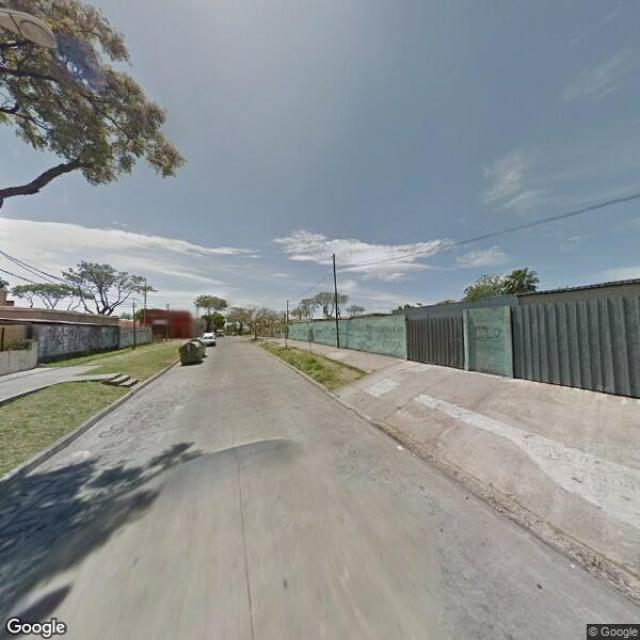garbage container: (168, 334, 214, 370)
